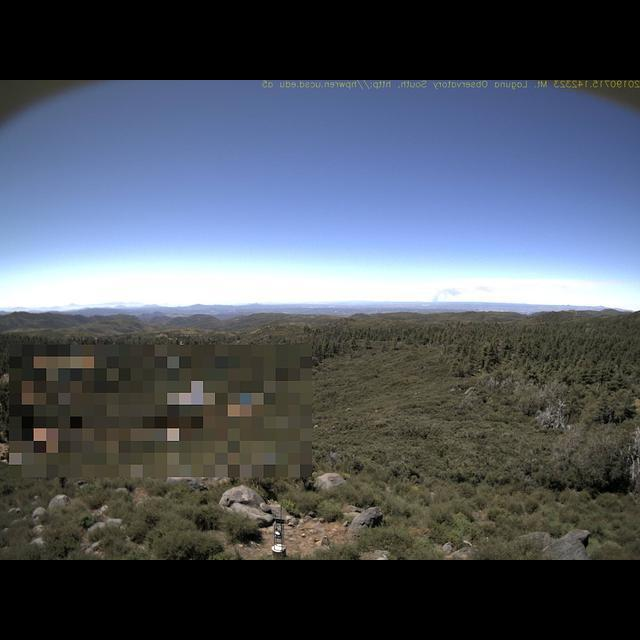Smoke: (430, 288, 466, 302)
